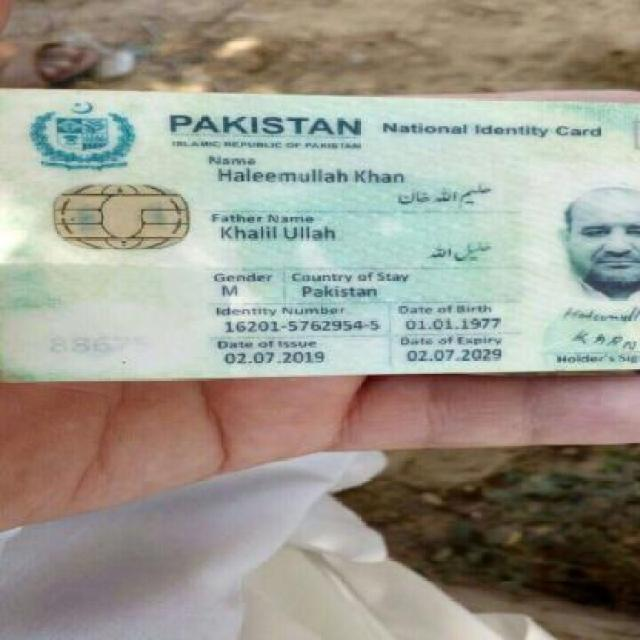Front: (2, 83, 630, 380)
